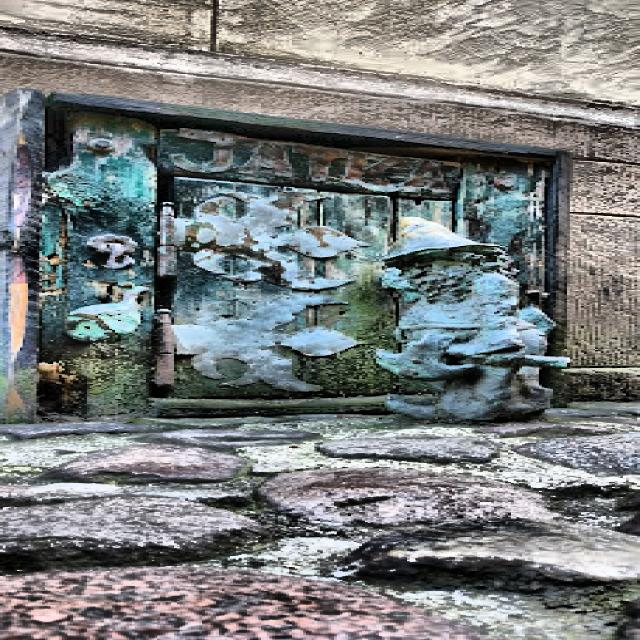Rzeznik: (377, 217, 568, 422)
